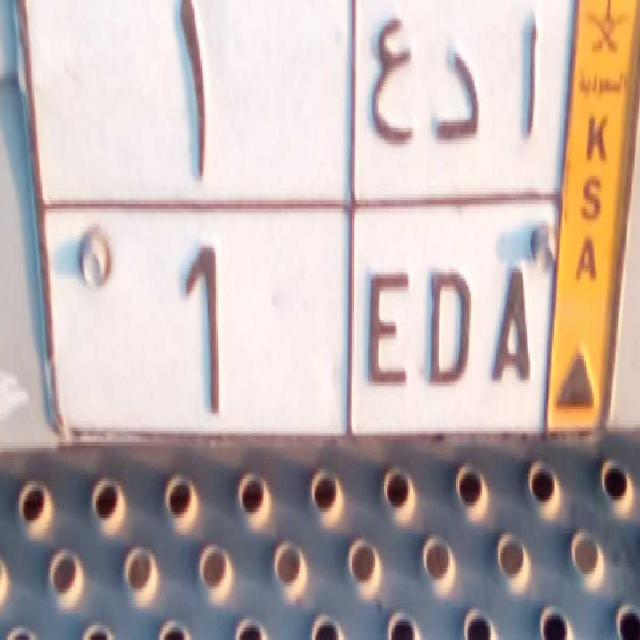license_plate: (39, 200, 557, 433)
